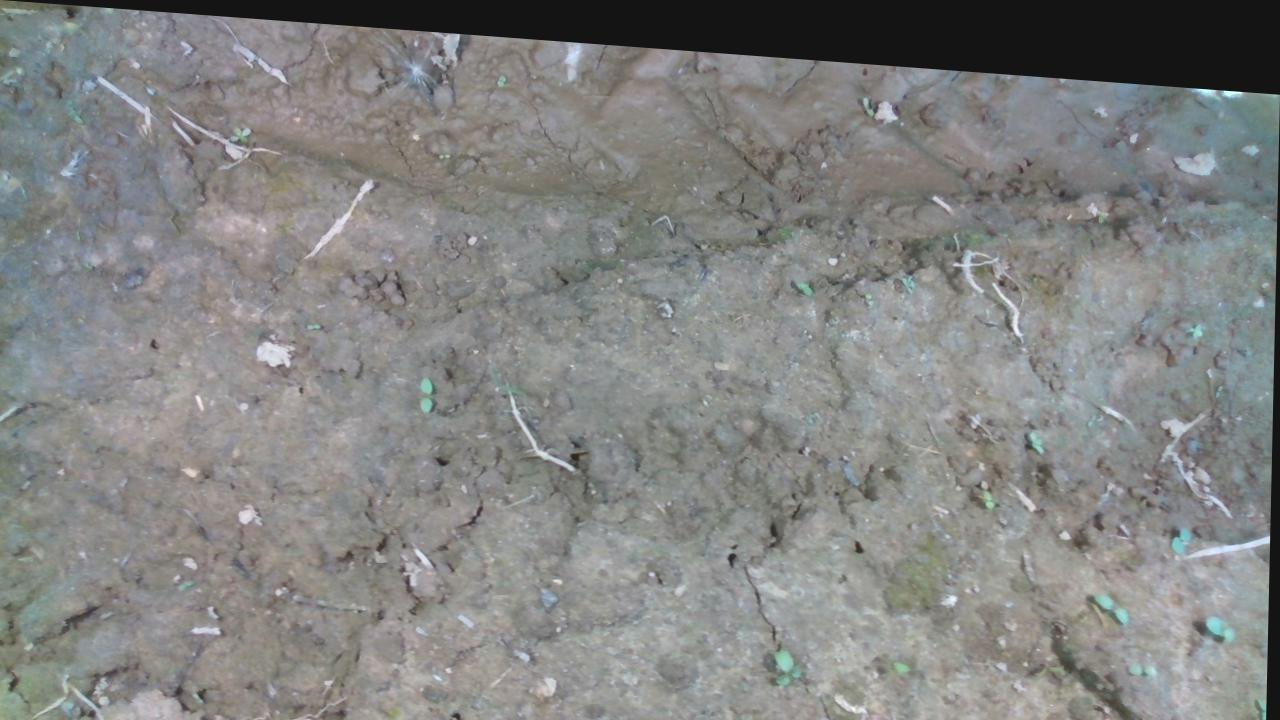weed: (1095, 571, 1135, 617), (771, 632, 809, 678), (1205, 591, 1240, 625), (413, 365, 439, 406), (1169, 506, 1194, 542), (1126, 642, 1161, 664), (789, 263, 818, 284), (307, 313, 322, 324)
